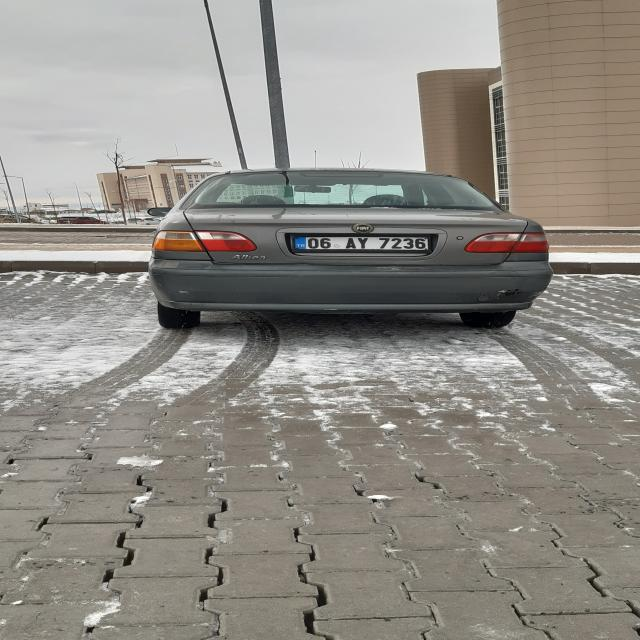plate: (292, 236, 430, 250)
